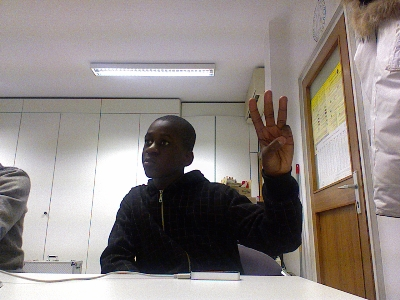三分: (247, 90, 294, 175)
